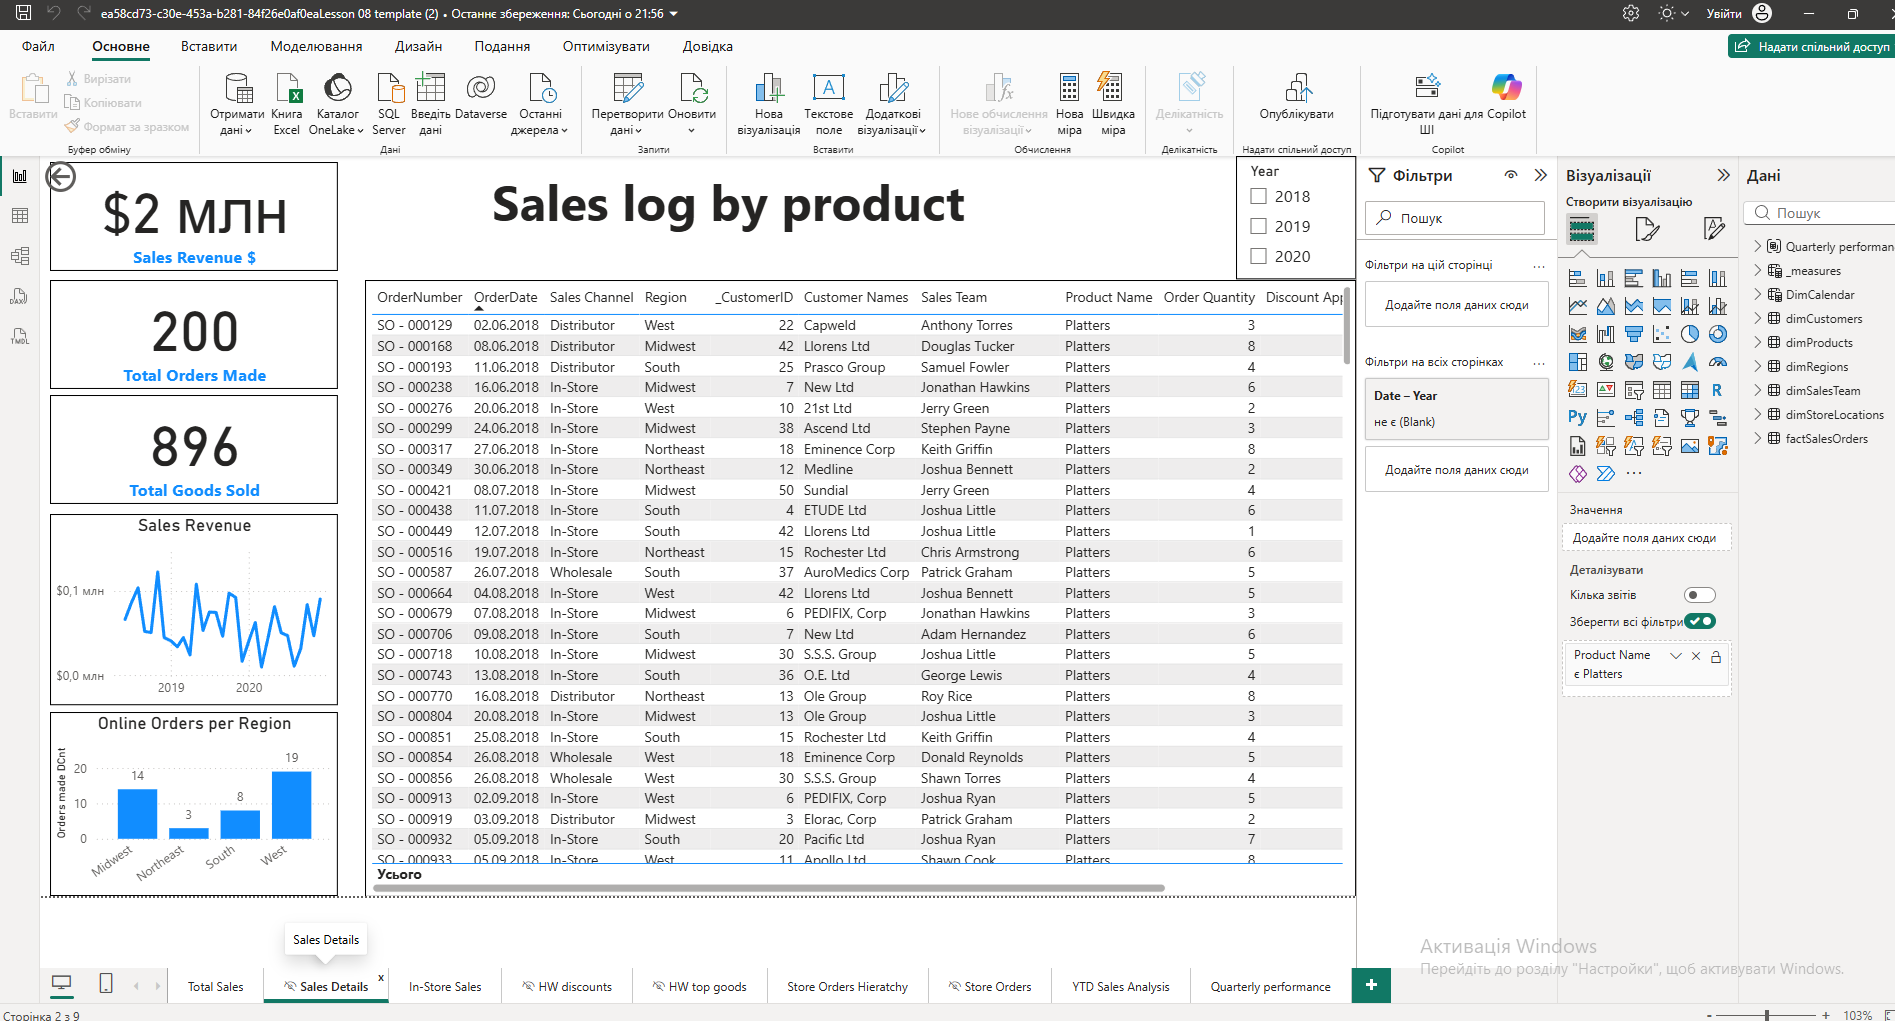

The dashboard page shown, as its layout file describes it:
{"tool":"powerbi","page":{"name":"Sales Details","canvas":[1280,720],"ordinal":1},"visuals":[{"type":"card","fields":{"Values":["_measures.Orders Revenue $"]},"box":[10,5.4,279.8,106],"z":0},{"type":"card","fields":{"Values":["_measures.Orders made QCnt"]},"box":[10,120.5,279.8,106],"z":1000},{"type":"tableEx","fields":{"Values":["factSalesOrders.OrderNumber","factSalesOrders.OrderDate","factSalesOrders.Sales Channel","dimRegions.Region","dimCustomers._CustomerID","dimCustomers.Customer Names","dimSalesTeam.Sales Team","dimProducts.Product Name","factSalesOrders.Order Quantity","factSalesOrders.Discount Applied","_measures.Orders Revenue $","factSalesOrders.ShipDate"]},"box":[316.1,120.5,963.6,599.5],"z":2000},{"type":"slicer","fields":{"Values":["DimCalendar.Date.Variation.Date Hierarchy.Year"]},"box":[1162.9,0,116.8,120.5],"z":3000},{"type":"clusteredColumnChart","title":"Online Orders per Region","fields":{"Category":["dimRegions.Region Hierarchy.Region","dimRegions.Region Hierarchy.State"],"Y":["_measures.Orders made DCnt"]},"box":[10,540.7,279.8,179.3],"z":4000},{"type":"lineChart","title":"Sales Revenue","fields":{"Category":["DimCalendar.Date.Variation.Date Hierarchy.Year","DimCalendar.Date.Variation.Date Hierarchy.Quarter","DimCalendar.Date.Variation.Date Hierarchy.Month","DimCalendar.Date.Variation.Date Hierarchy.Day"],"Y":["_measures.Orders Revenue $"]},"box":[10,347.8,279.8,185.7],"z":5000},{"type":"textbox","box":[366.8,5.4,605.9,86.9],"z":6000},{"type":"card","fields":{"Values":["_measures.Goods Sold Qnt"]},"box":[10,232.8,279.8,106],"z":7000},{"type":"actionButton","box":[0,0,100,40],"z":8000}]}

Visuals, with their boxes on the page's 1280x720 design canvas (x1, y1, x2, y2). These are canvas units, not pixel positions in the 1895x1021 screenshot, which may show the page scaled, cropped or inside an application window:
card - _measures.Orders Revenue $: select_region(10, 5, 290, 111)
card - _measures.Orders made QCnt: select_region(10, 120, 290, 226)
tableEx - factSalesOrders.OrderNumber x factSalesOrders.OrderDate: select_region(316, 120, 1280, 720)
slicer - DimCalendar.Date.Variation.Date Hierarchy.Year: select_region(1163, 0, 1280, 120)
"Online Orders per Region" clusteredColumnChart: select_region(10, 541, 290, 720)
"Sales Revenue" lineChart: select_region(10, 348, 290, 534)
textbox: select_region(367, 5, 973, 92)
card - _measures.Goods Sold Qnt: select_region(10, 233, 290, 339)
actionButton: select_region(0, 0, 100, 40)
